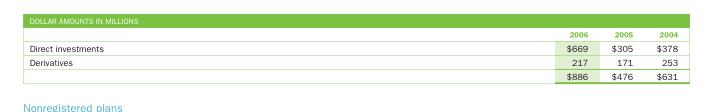table: (28, 29, 677, 81)
table column: (28, 29, 334, 81), (334, 29, 598, 81), (598, 29, 643, 81), (643, 29, 677, 81)
table column header: (28, 29, 677, 40)
table row: (28, 40, 677, 54), (28, 54, 677, 68), (28, 68, 677, 81), (28, 29, 677, 40)
